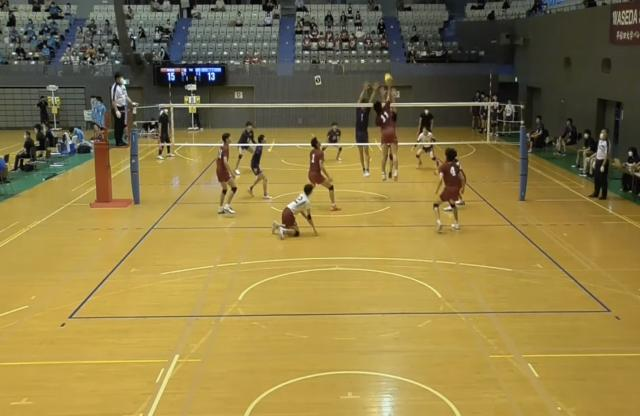spike: (370, 73, 407, 186)
